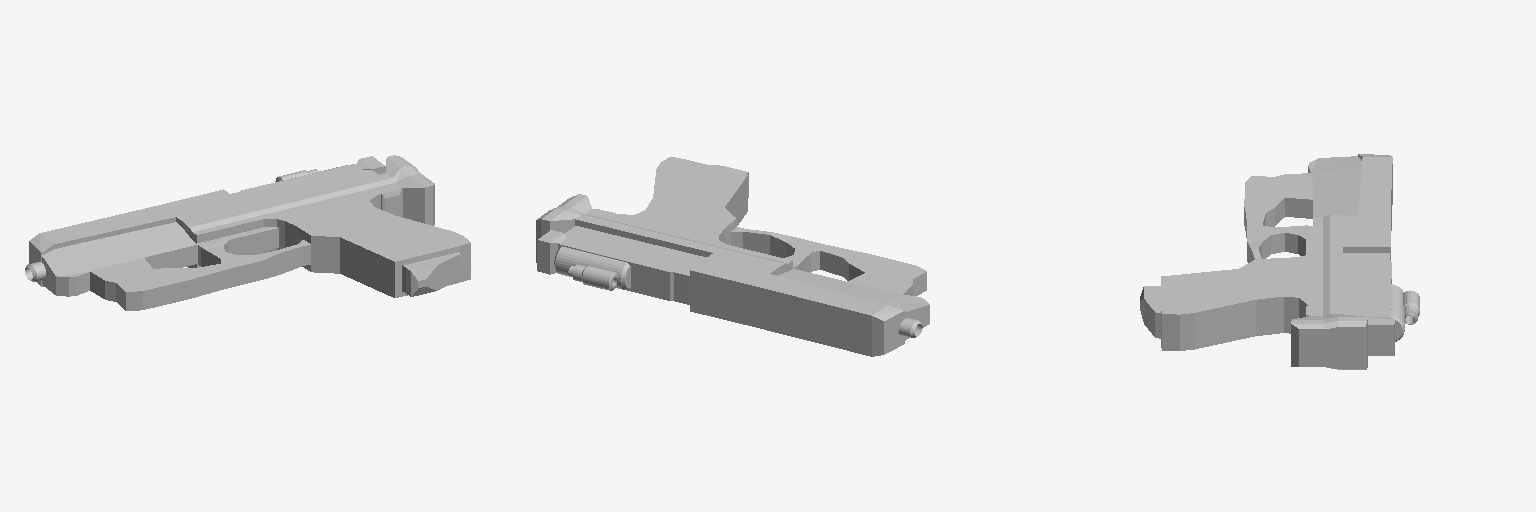
File: VBR-B.obj
The picture shows the model from 3 angles: view 1: azimuth 30°, elevation 25°; view 2: azimuth 150°, elevation 25°; view 3: azimuth 270°, elevation 25°; orthographic projection.
Bounding box in the file's own units: 10.11 × 1.24 × 6.49.